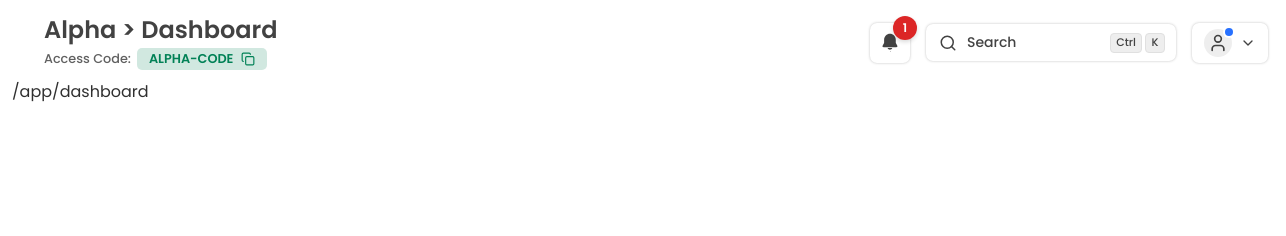
Test: Header — opening a join-request notification › join_request_unreviewed opens Join request needs your review
Click the button named "Notifications".
click(890, 43)  # box x1=870 y1=23 x2=910 y2=63
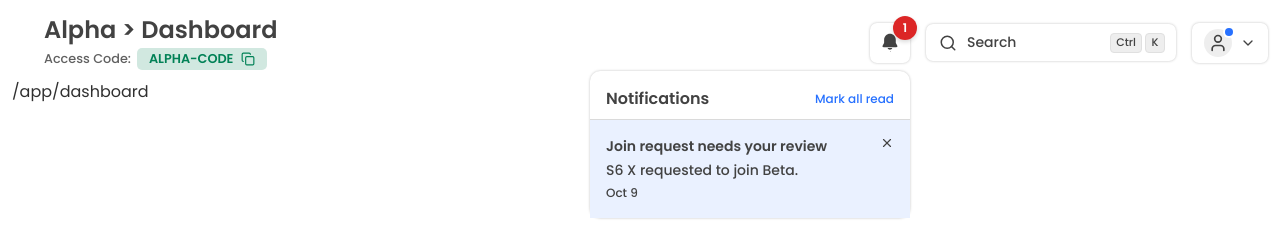
Click the text "Join request needs your review".
click(731, 146)  # box x1=606 y1=136 x2=856 y2=157
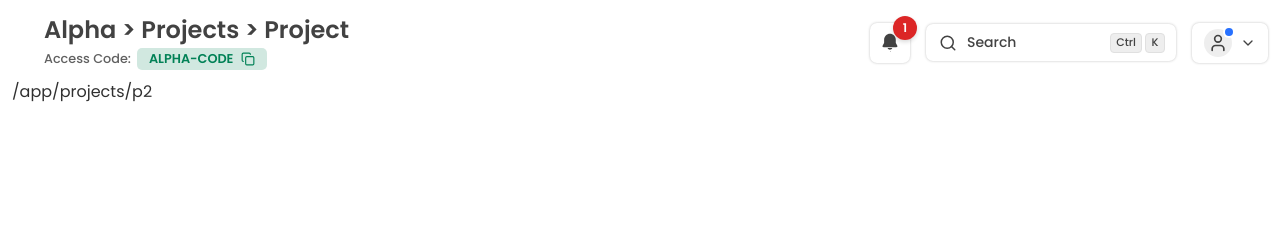
Expected: the text with test id "path" reads "/app/projects/p2", x1=12 y1=80 x2=152 y2=103
